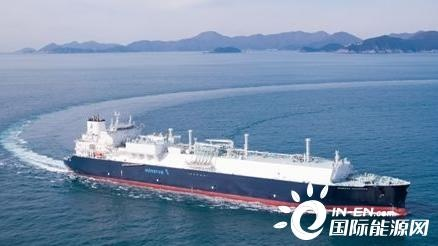Cargoship: (59, 109, 411, 220)
